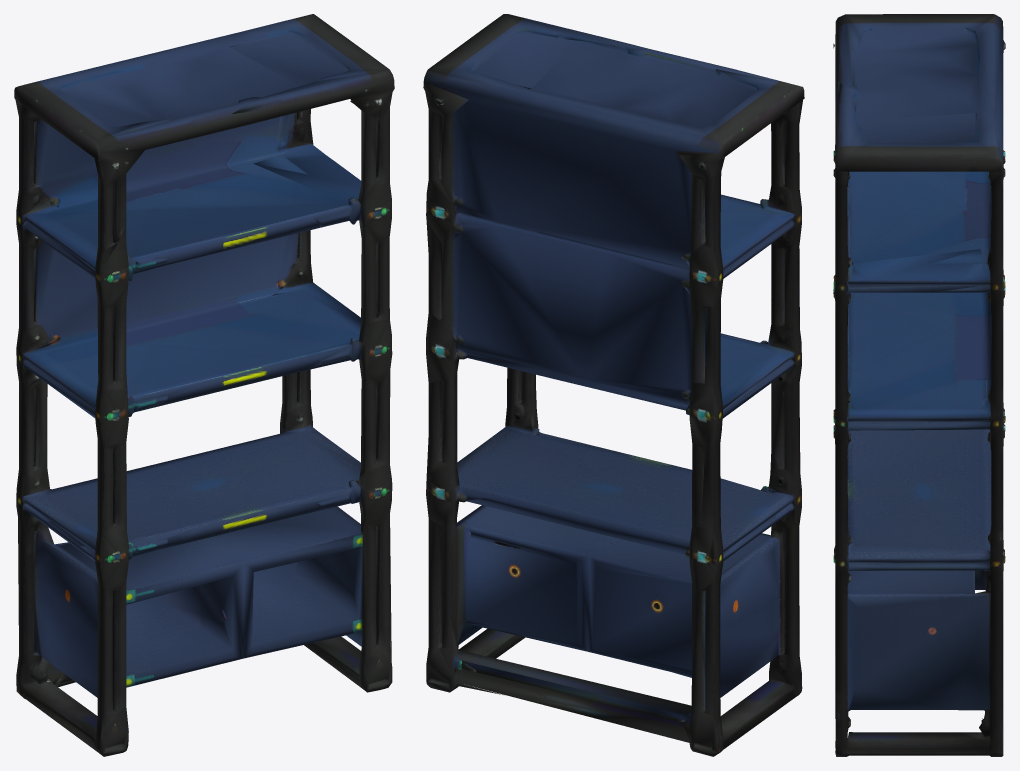
3 renders of one model, left to right at view 1: azimuth 30°, elevation 25°; view 2: azimuth 150°, elevation 25°; view 3: azimuth 270°, elevation 25°, orthographic.
Size of the model in its own units: 0.9598 by 1.9 by 0.4912.
Materials: 1 (1 with a texture image).
